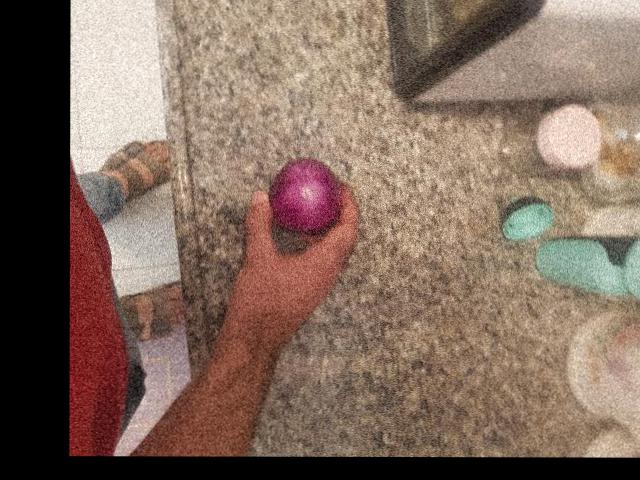onion: (457, 5, 525, 88)
